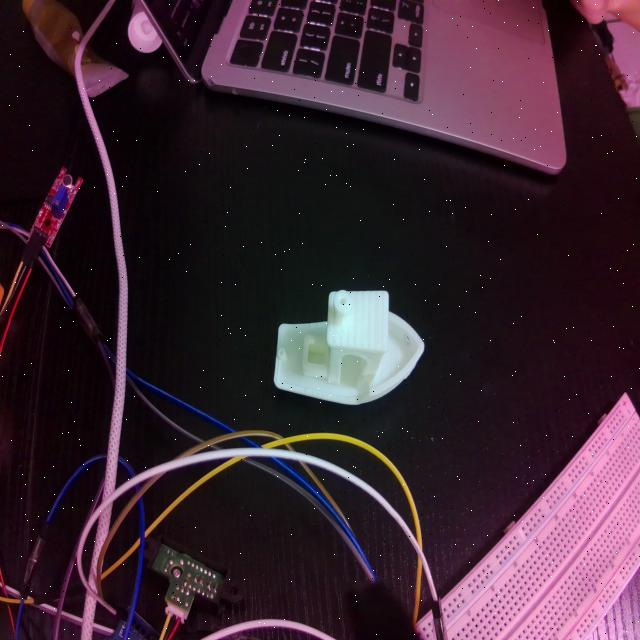ship: (274, 288, 426, 408)
